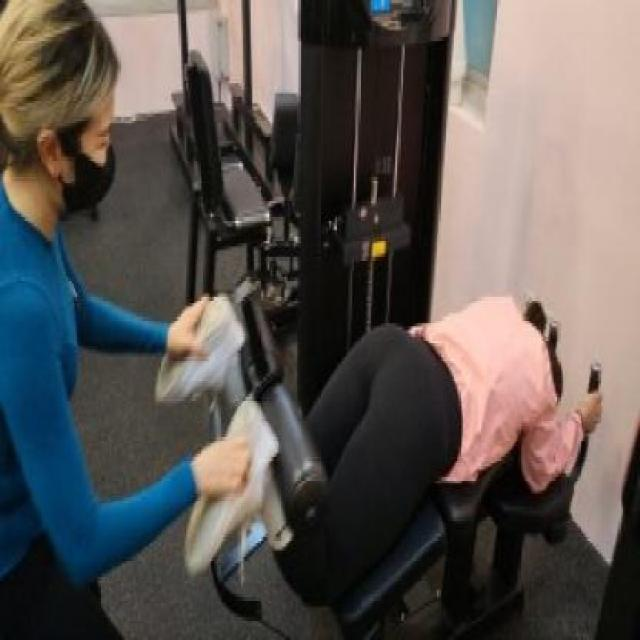reg curl machine: (156, 0, 606, 640)
